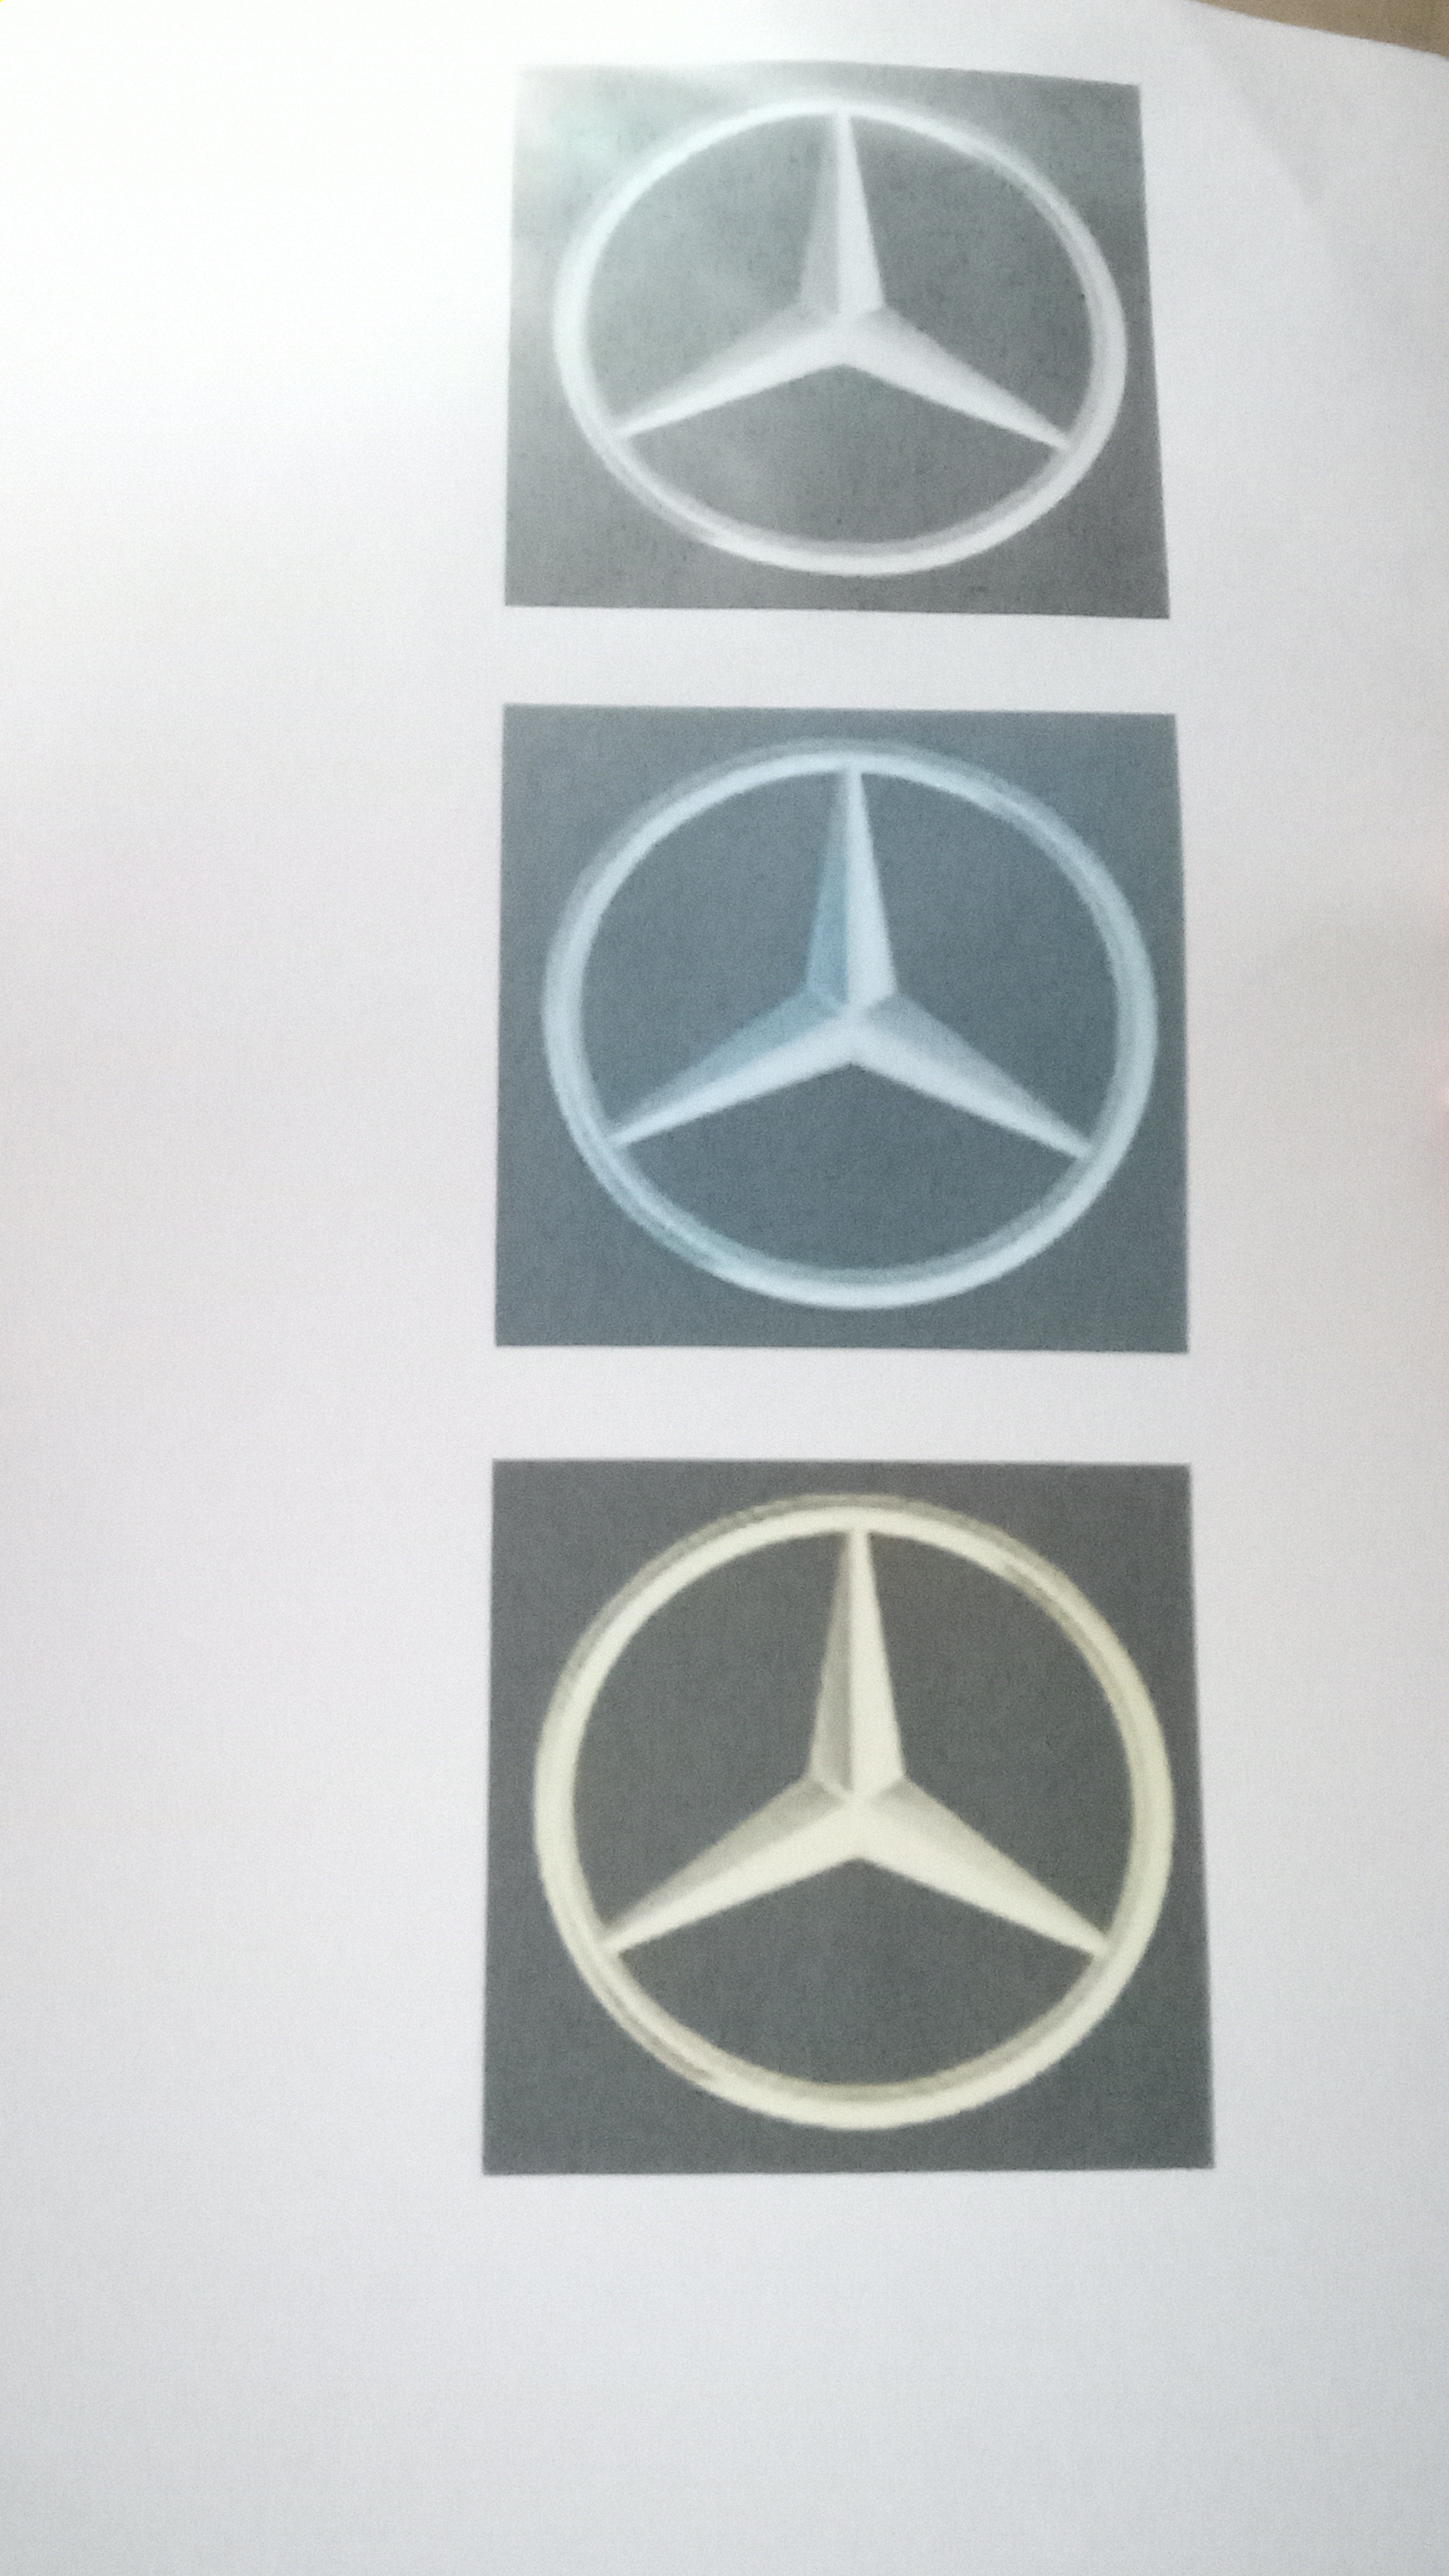Mercedes: (502, 1479, 1192, 2160), (515, 727, 1182, 1329), (515, 64, 1159, 602)
